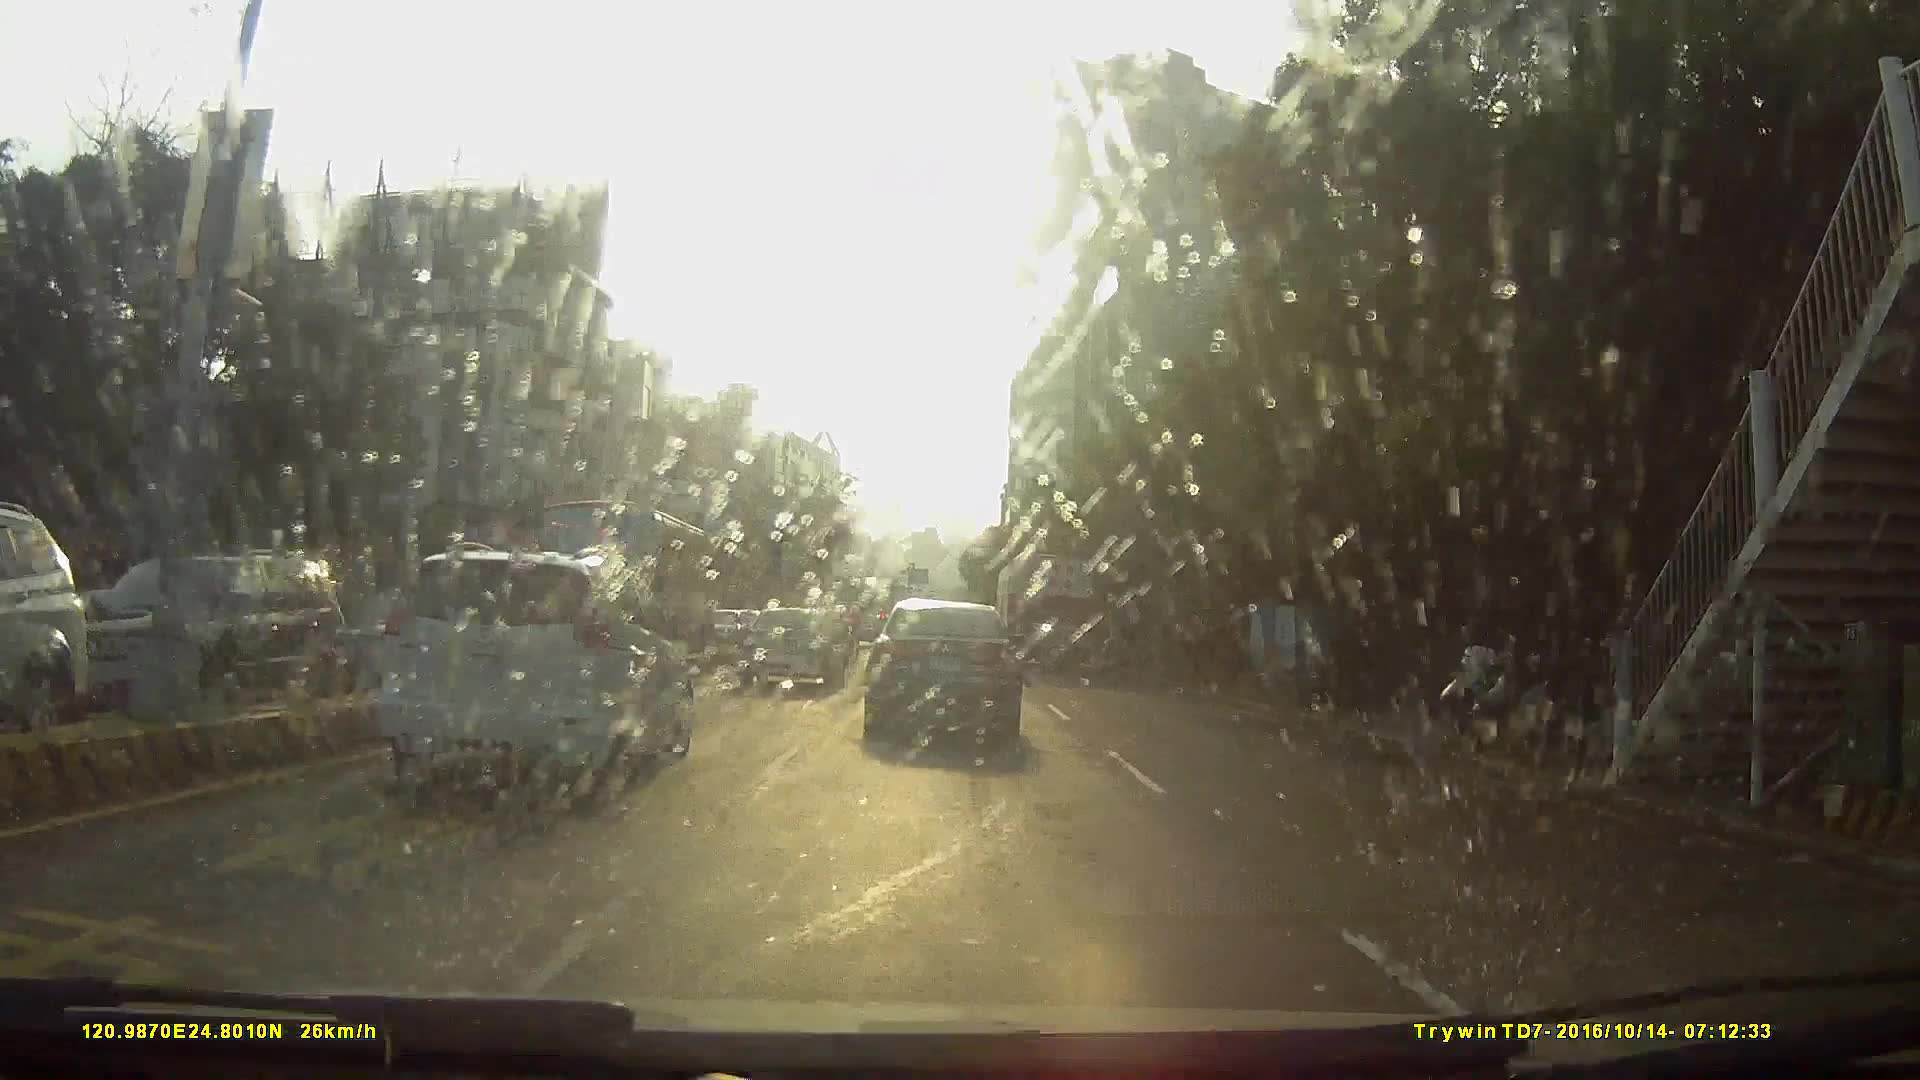vehicle: (251, 556, 684, 868), (378, 542, 695, 793), (516, 495, 724, 658), (862, 593, 1025, 760), (996, 556, 1100, 682), (735, 607, 844, 692), (866, 638, 915, 687)
